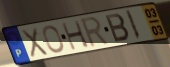B: (104, 12, 132, 44)
H: (60, 19, 91, 52)
I: (124, 9, 143, 41)
O: (42, 24, 66, 54)
R: (79, 15, 112, 50)
X: (20, 26, 50, 59)
